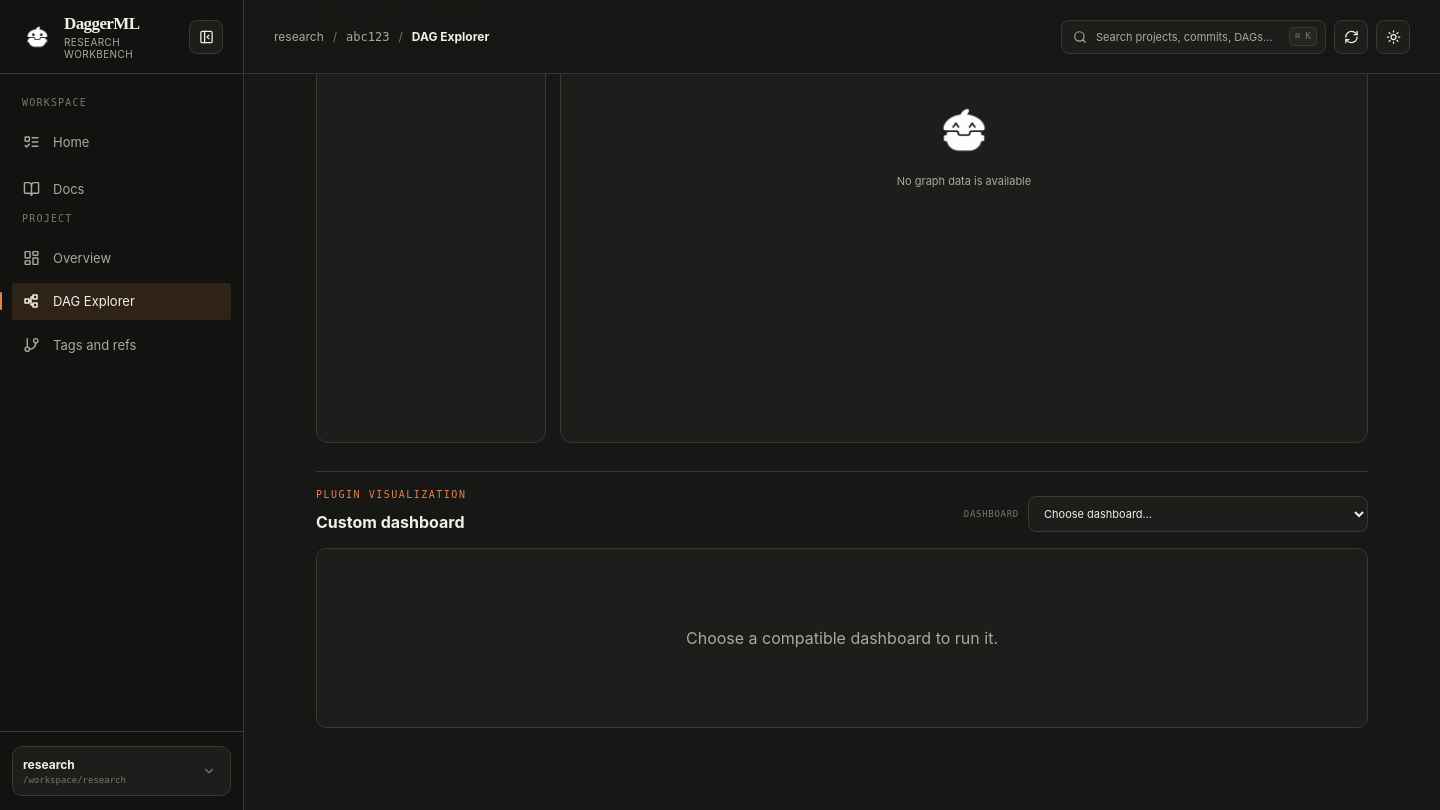
it: canonical dashboard routes › does not run a compatible non-eager dashboard until selected
(page scrolled)
Select "acme.metrics" in the dropdown named "Select custom dashboard": (1198, 514) [1028, 496, 1368, 532]
(page scrolled)
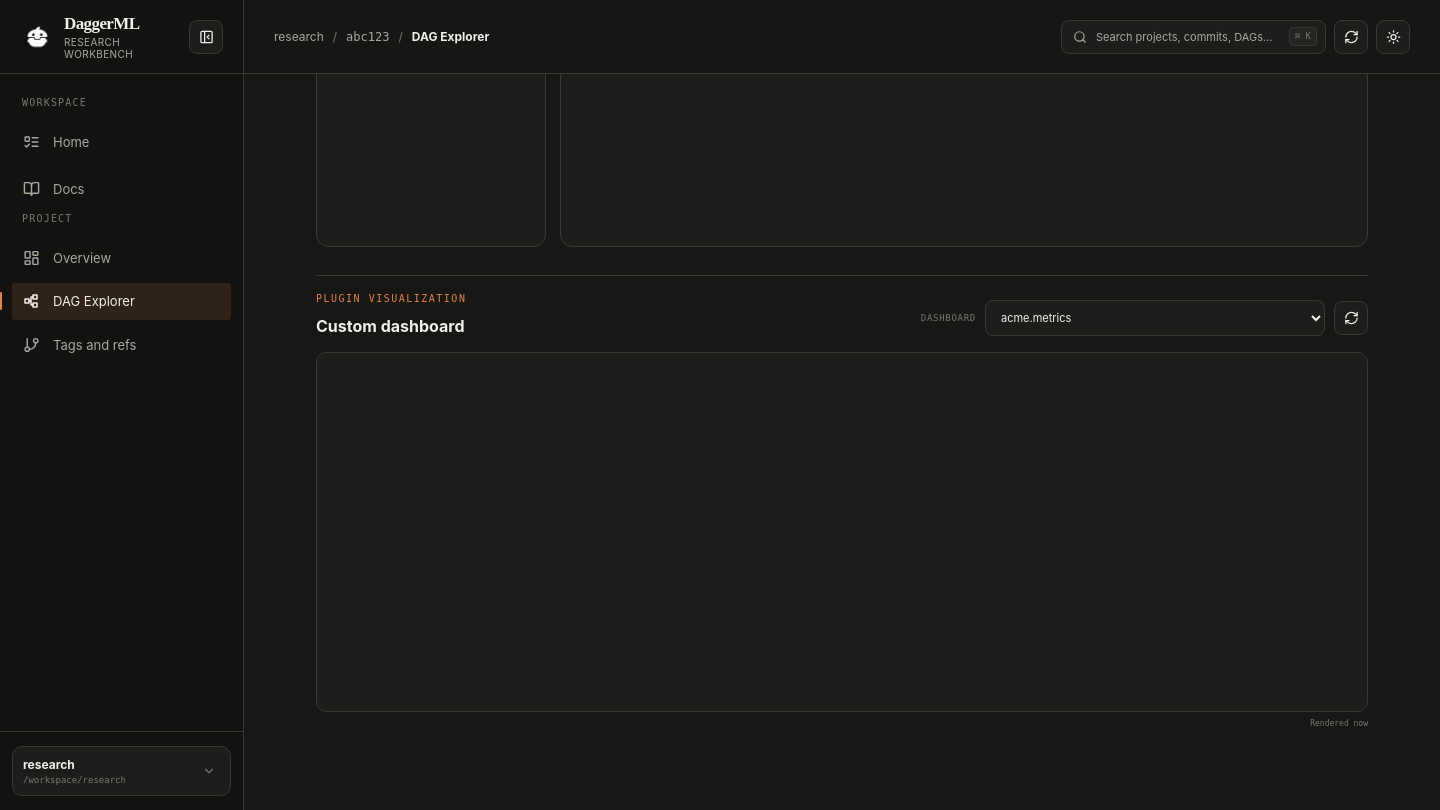
Now the element named "Vega-Lite dashboard" is shown, box [316, 352, 1368, 712]
